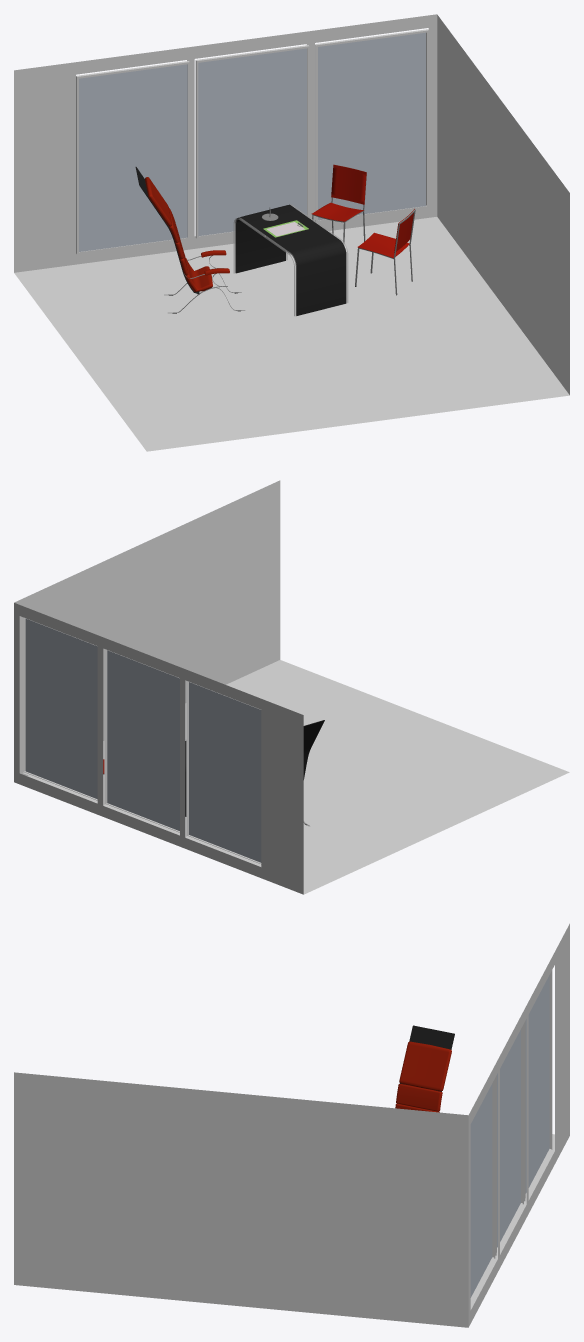
The model's file is office.fbx.
3 renders of one model, top to bottom at view 1: azimuth 30°, elevation 25°; view 2: azimuth 150°, elevation 25°; view 3: azimuth 270°, elevation 25°, orthographic. The views are drawn at different scales.
Visible parts, largest first — view 1: Plane.004, Plane.006, Cube.007, Plane.005, Plane, Cube.006, Plane.001; view 2: Plane.004, Plane.006, Plane.005; view 3: Plane.004, Plane.006, Plane.005, Cube.006, Cube.005.
Boxes of the visible parts, box(x1,y1,x2,y2) form: Plane.004: box(14, 14, 569, 451); Plane.006: box(79, 32, 425, 251); Cube.007: box(233, 204, 348, 316); Plane.005: box(76, 29, 428, 254); Plane: box(311, 164, 366, 221); Cube.006: box(145, 177, 212, 291); Plane.001: box(357, 209, 414, 258); Plane.004: box(14, 480, 569, 894); Plane.006: box(25, 618, 261, 862); Plane.005: box(22, 617, 261, 865); Plane.004: box(14, 923, 569, 1327); Plane.006: box(470, 975, 549, 1297); Plane.005: box(470, 970, 552, 1304); Cube.006: box(395, 1041, 451, 1112); Cube.005: box(399, 1025, 454, 1091).
Bounding box in the file's own units: 5539 × 2337 × 5539.
